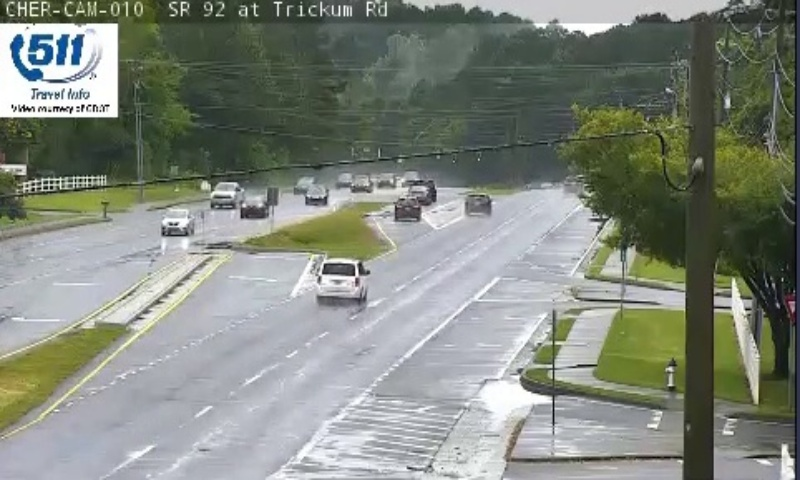car: (315, 258, 365, 299), (395, 196, 421, 220), (464, 193, 491, 214)
